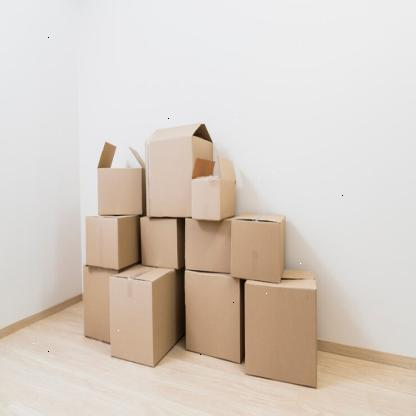box: (243, 281, 318, 388), (185, 270, 241, 365), (107, 275, 155, 368), (144, 137, 193, 219), (230, 219, 281, 283), (184, 219, 232, 272), (96, 166, 142, 216), (140, 219, 178, 270), (86, 216, 120, 272), (191, 179, 221, 222)
